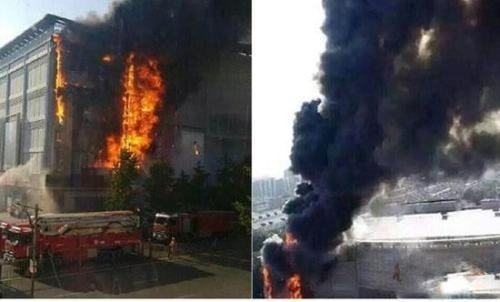fire: (102, 54, 165, 168), (51, 36, 69, 129), (265, 271, 305, 298), (260, 265, 274, 296), (287, 274, 302, 298)
